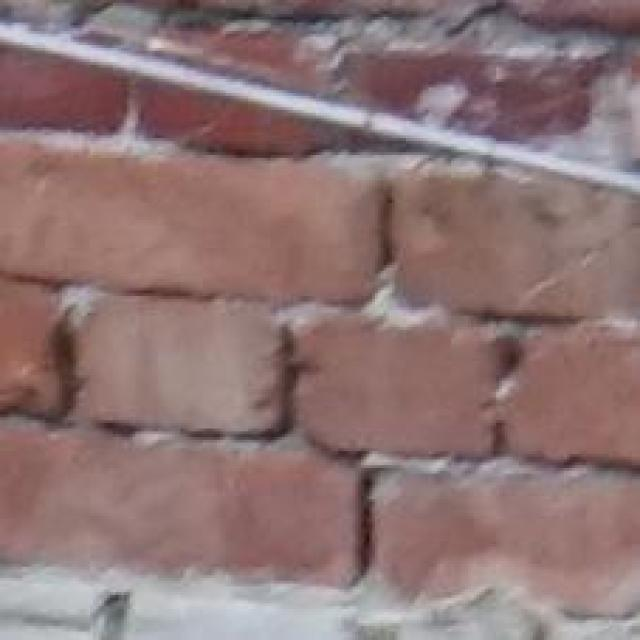Crack: (160, 103, 557, 640)
